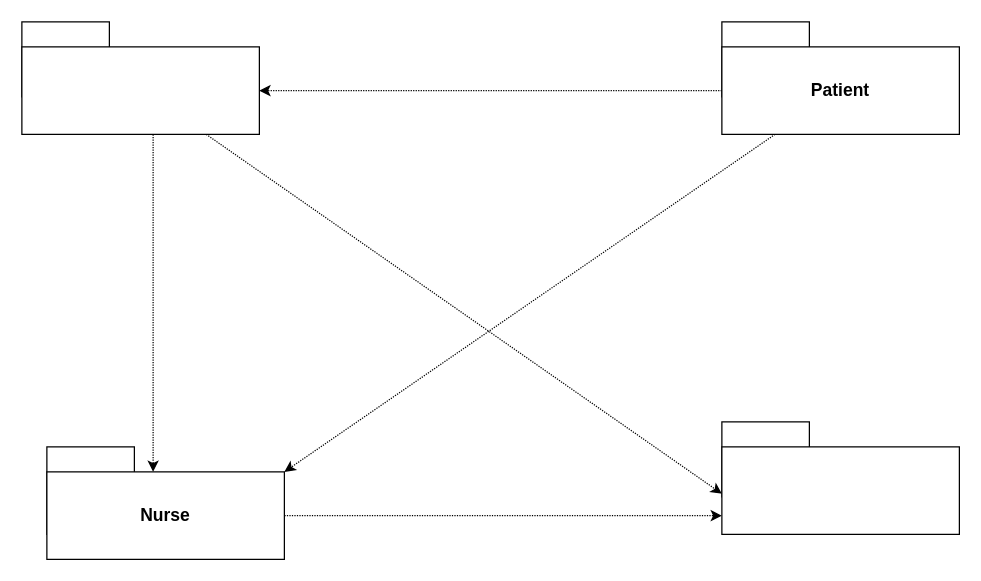
This 981x581 diagram has some shape labels left out. The shapes that lost their labels are listed below. From the top down, each one's centre as x and y in pixels, then its label:
At [140,90]: "Doctor".
At [840,490]: "Admin".
